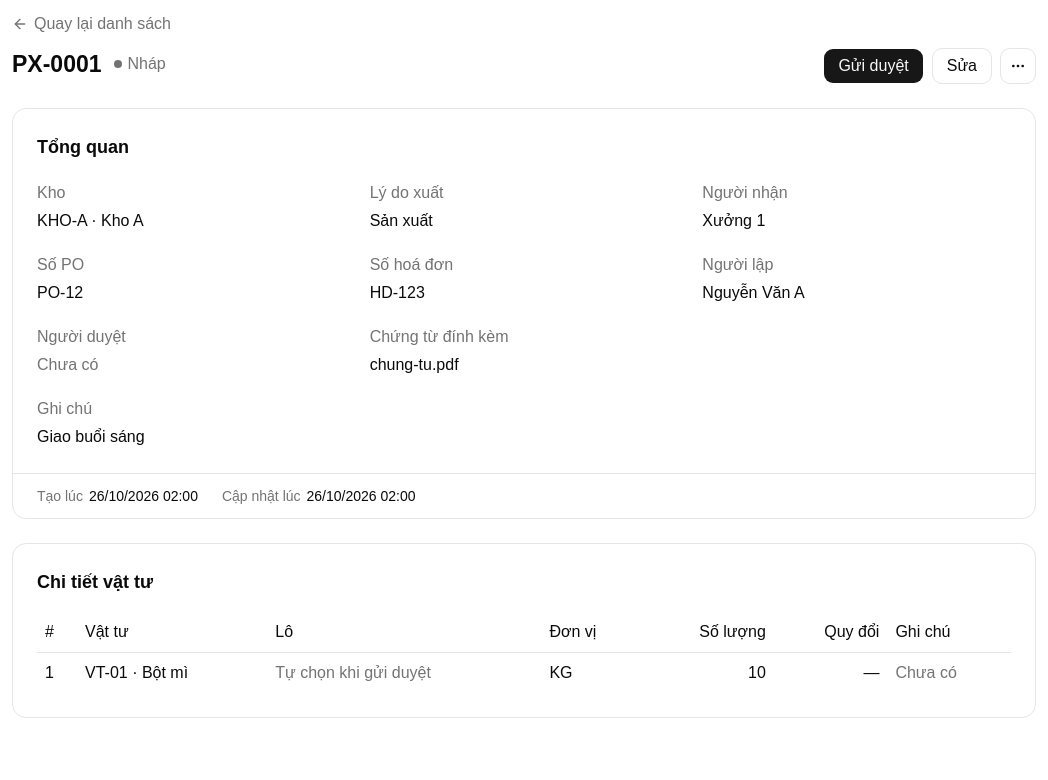
Test case: ExportFormDetailPage › DRAFT, SUPERVISOR chủ phiếu: Gửi duyệt, Sửa, Xoá, In — không có Huỷ
Check: the button "Gửi duyệt" is shown, box [823,48,924,84]
Check: the button "Sửa" is shown, box [932,48,992,84]
Click the button named "Thao tác khác".
click(1018, 66)  # box [1000,48,1036,84]
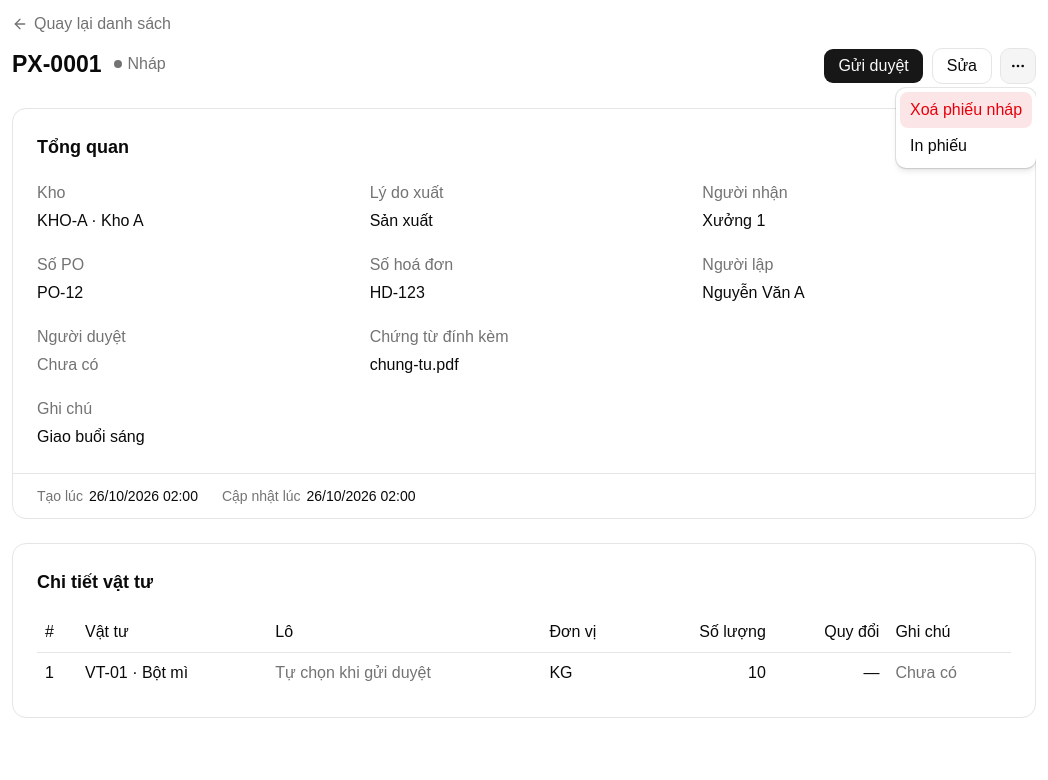
Check: the menu item "Xoá phiếu nháp" is shown, box [900,92,1032,128]
Check: the menu item "In phiếu" is shown, box [910,137,967,154]
